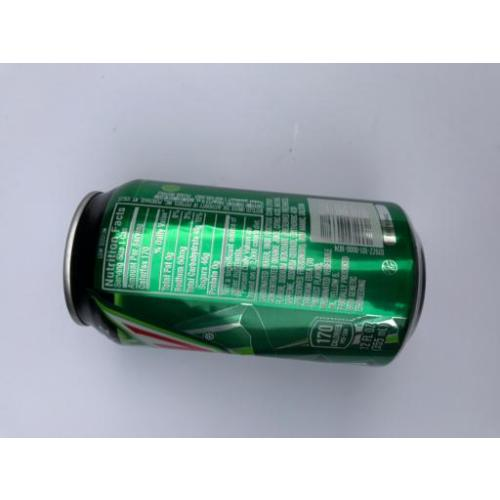metal: (69, 179, 423, 369)
